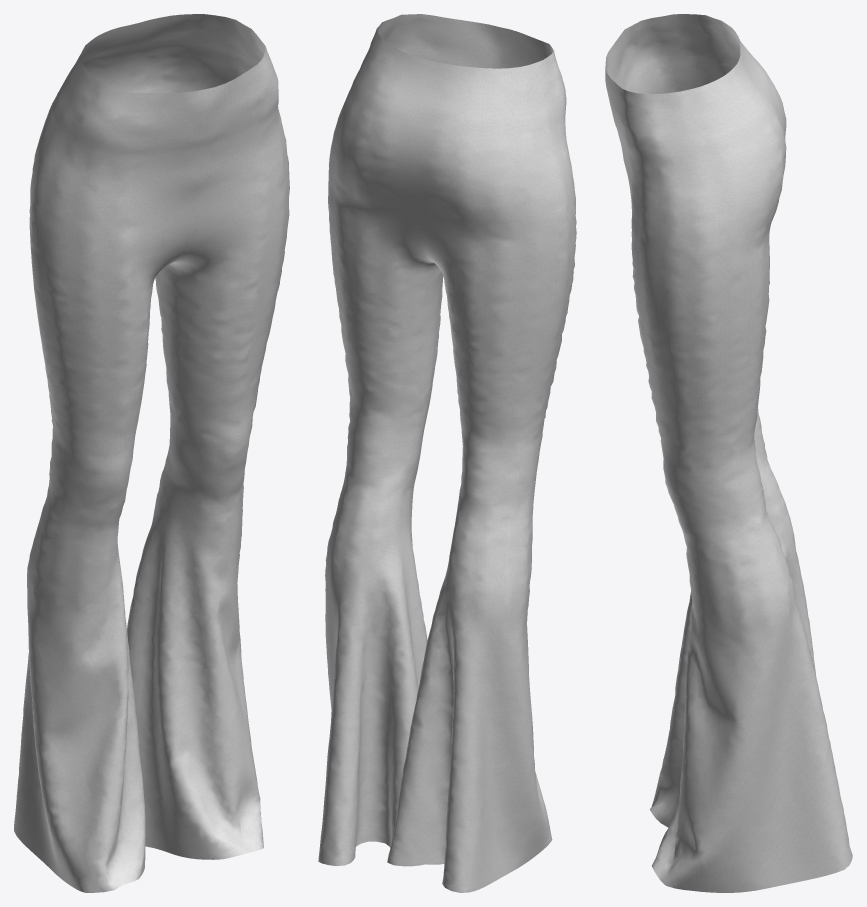
3 renders of one model, left to right at view 1: azimuth 30°, elevation 25°; view 2: azimuth 150°, elevation 25°; view 3: azimuth 270°, elevation 25°, orthographic. The views are drawn at different scales.
Visible parts, largest first — view 1: BodyBottom; view 2: BodyBottom; view 3: BodyBottom.
Part boxes in pixels (x1,y1,x2,y2): BodyBottom: [14, 14, 289, 892]; BodyBottom: [318, 14, 576, 892]; BodyBottom: [605, 14, 852, 892].
Size of the model in its own units: 0.3002 by 0.9631 by 0.2689.
3 materials, 3 textured.
